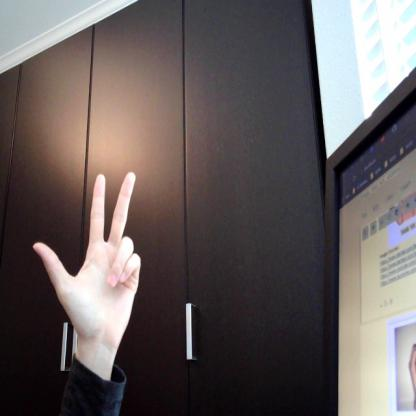three: (30, 168, 144, 348)
